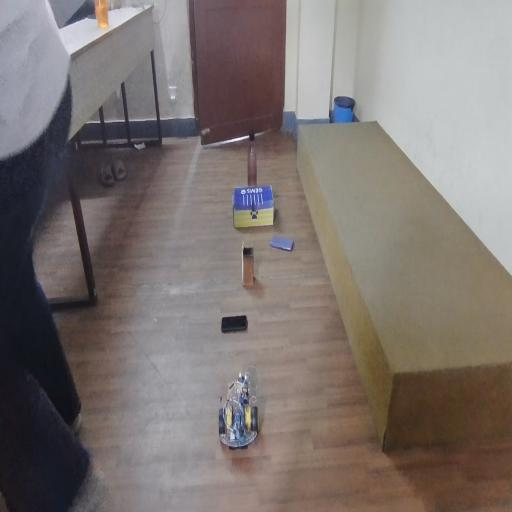Bottle: (247, 127, 260, 176)
car: (209, 368, 266, 464)
